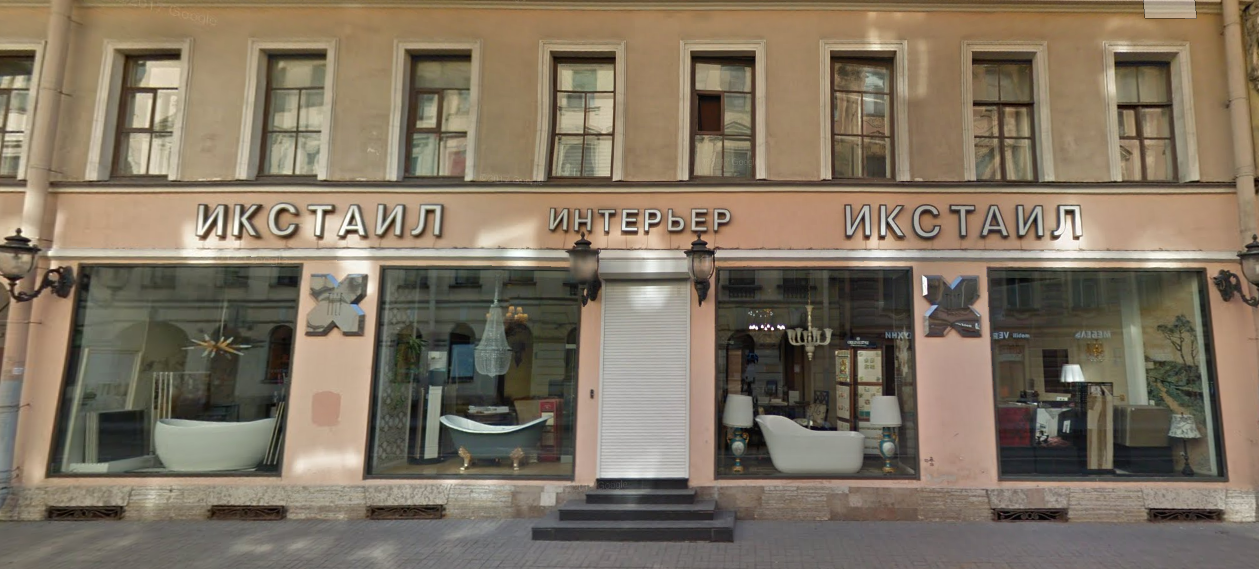signboard: (186, 197, 1089, 250), (918, 268, 993, 347), (303, 265, 377, 339)
window: (47, 260, 303, 475), (365, 264, 584, 479), (997, 264, 1207, 481), (714, 272, 915, 481), (964, 54, 1040, 186), (1108, 55, 1184, 186), (825, 46, 898, 180), (687, 48, 756, 184), (404, 50, 471, 182), (546, 56, 610, 179), (262, 56, 323, 183), (117, 52, 173, 178)
